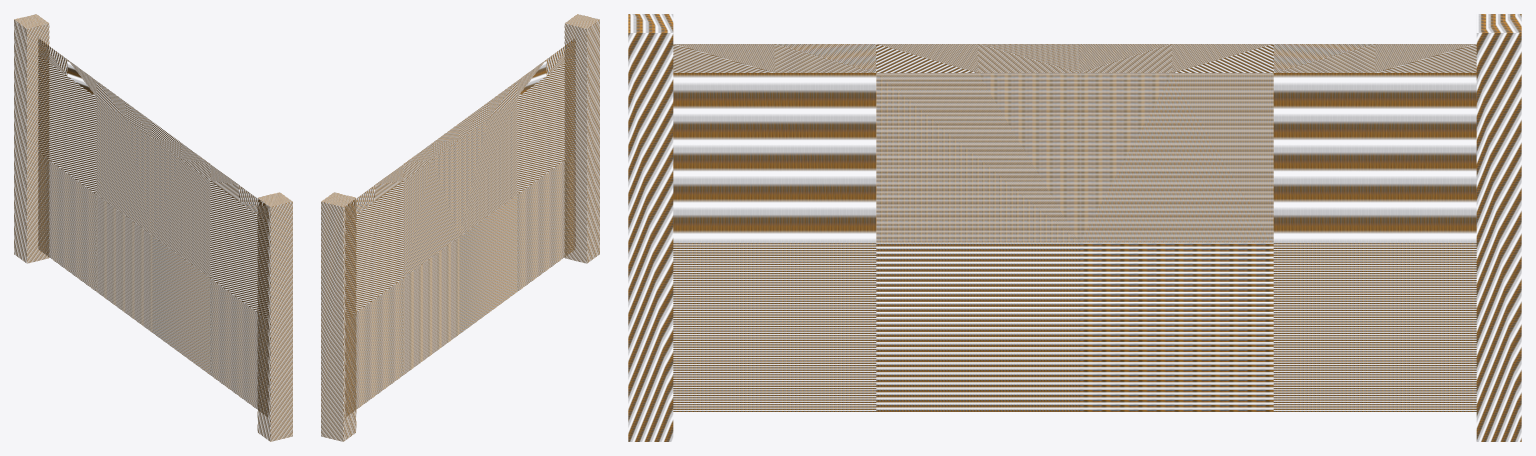
File: Barbed_Wire_Fence_Wide.gltf
3 views of the same model, side by side, from view 1: azimuth 30°, elevation 25°; view 2: azimuth 150°, elevation 25°; view 3: azimuth 270°, elevation 25° (orthographic). The views are drawn at different scales.
Visible parts, largest first — view 1: node1; view 2: node1; view 3: node1.
Boxes of the visible parts, <box> form: node1: <box>14,14,292,441</box>; node1: <box>321,14,599,441</box>; node1: <box>628,14,1521,441</box>.
Bounding box in the file's own units: 0.1 × 1 × 1.98.
